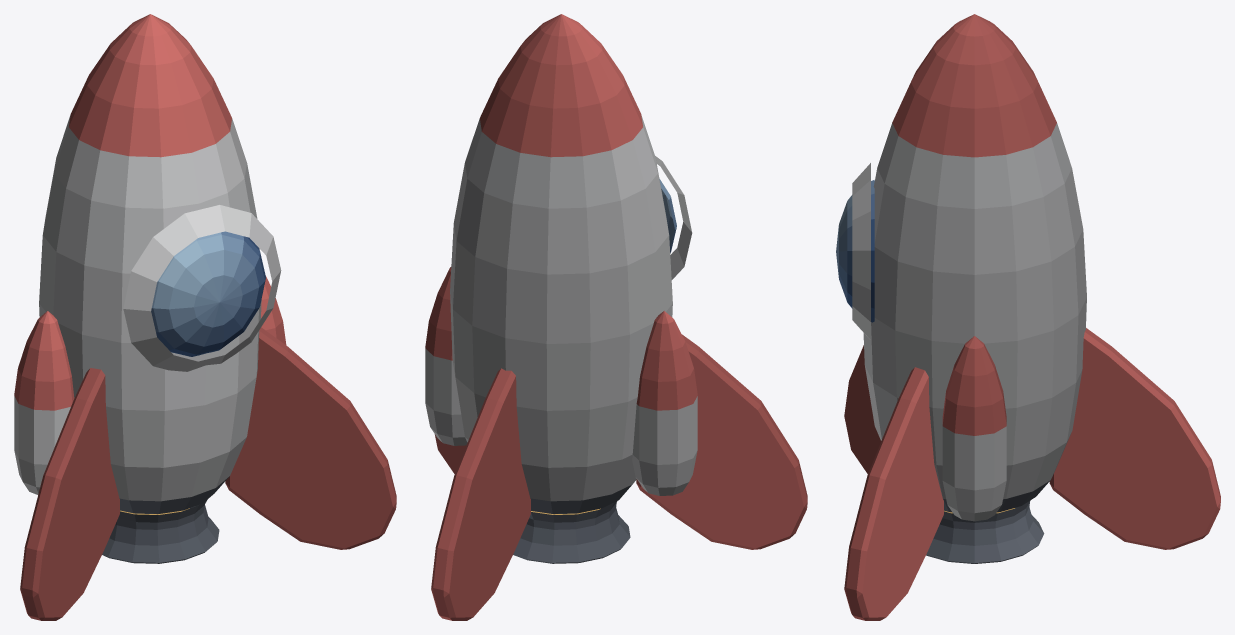
The model's file is HeroRocket.glb.
3 views of the same model, side by side, from view 1: azimuth 30°, elevation 25°; view 2: azimuth 150°, elevation 25°; view 3: azimuth 270°, elevation 25° (orthographic).
Parts seen in each view (by area): view 1: HeroRocket; view 2: HeroRocket; view 3: HeroRocket.
Boxes of the visible parts, bbox=[...] form: HeroRocket: bbox=[14, 14, 396, 620]; HeroRocket: bbox=[425, 14, 807, 620]; HeroRocket: bbox=[836, 14, 1220, 620].
Bounding box in the file's own units: 1.73 × 2.36 × 1.54.
